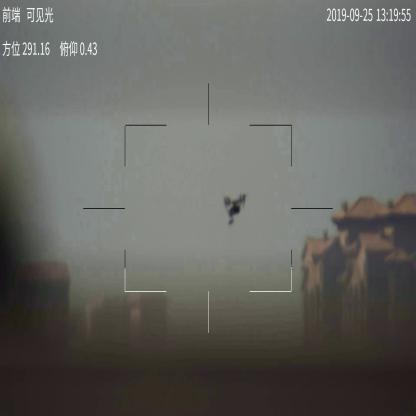uav: (220, 193, 250, 225)
